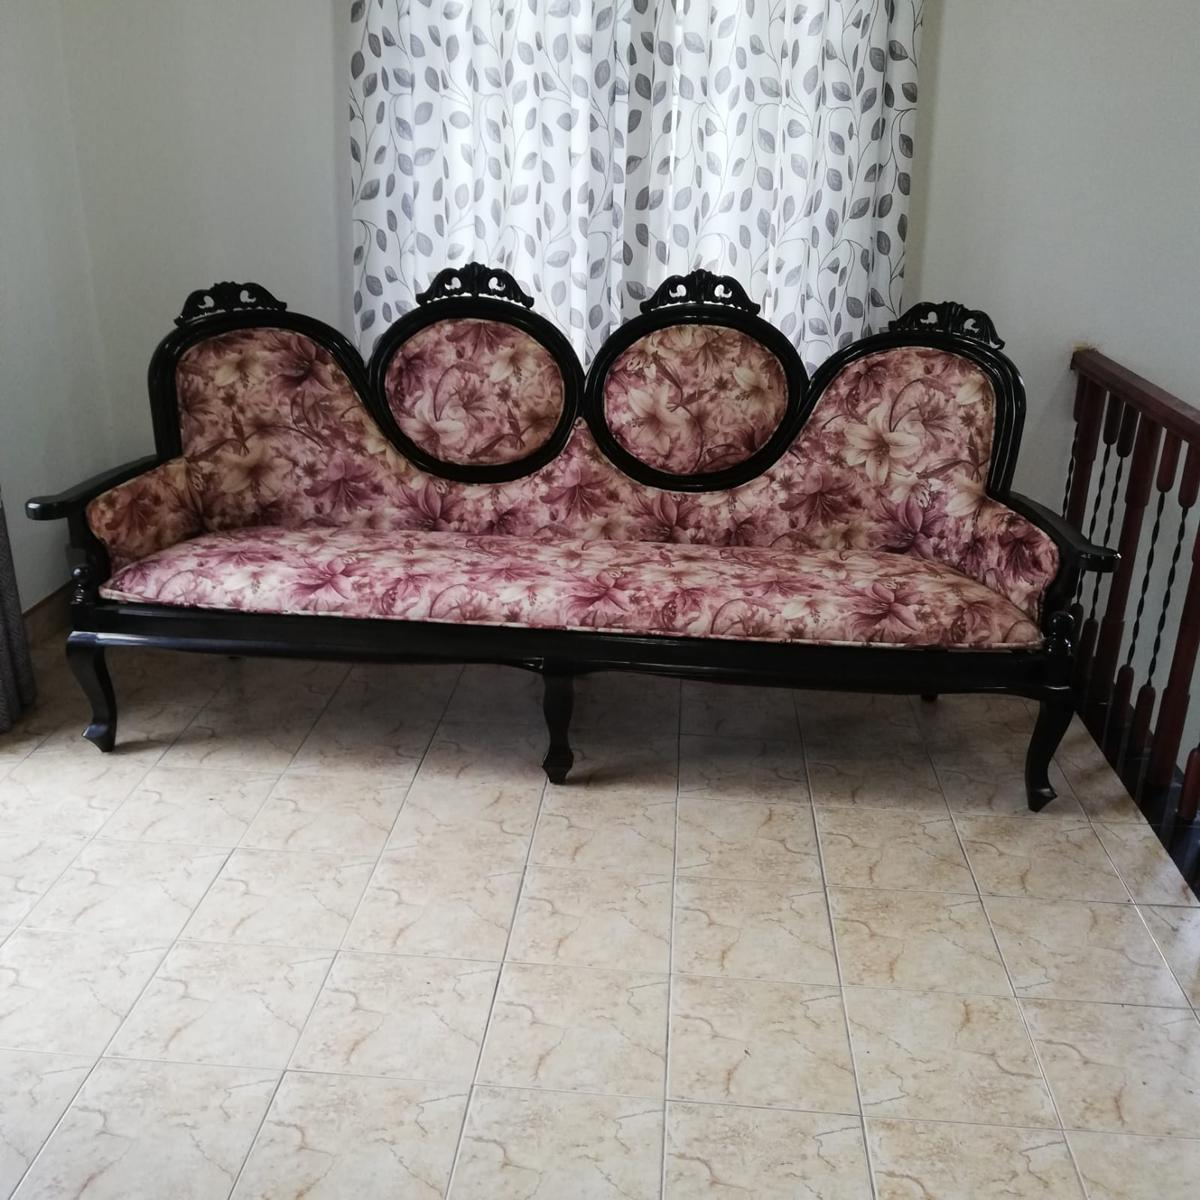Sofa: (24, 267, 1119, 816)
